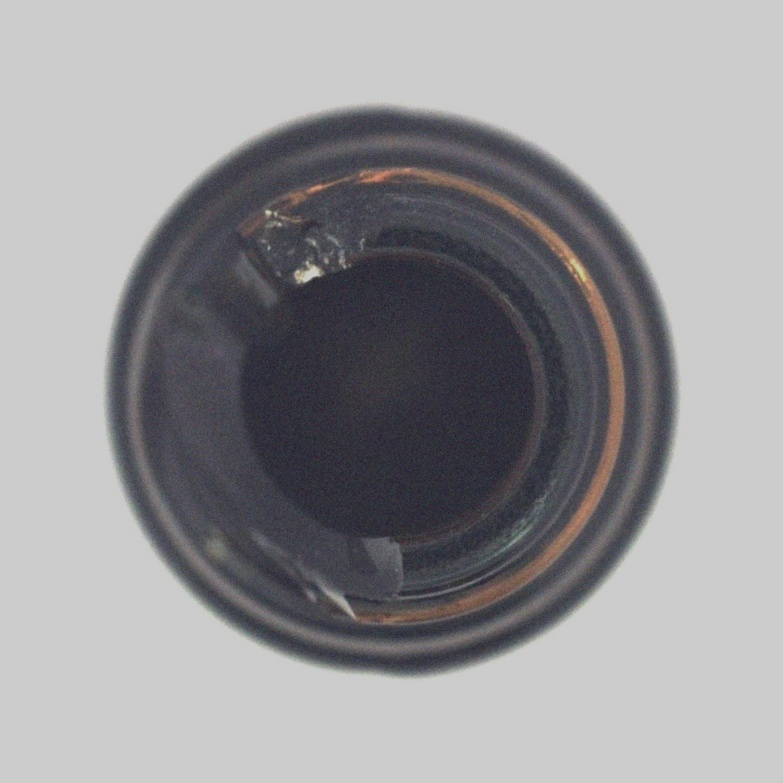bad-broken_large: (41, 33, 748, 745)
